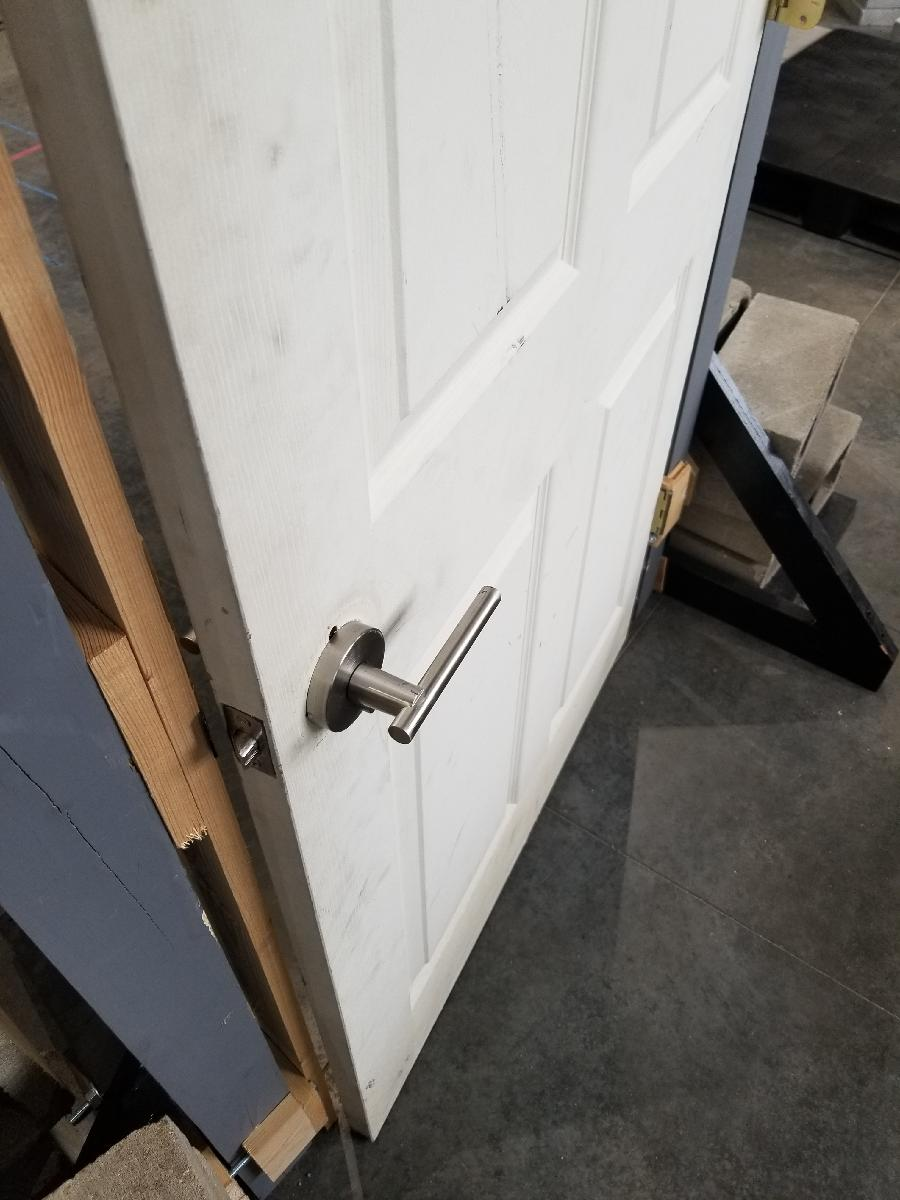doorHandle: (293, 580, 507, 761)
